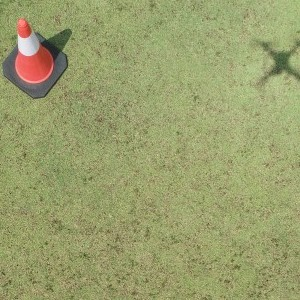traffic cone: (2, 19, 68, 99)
